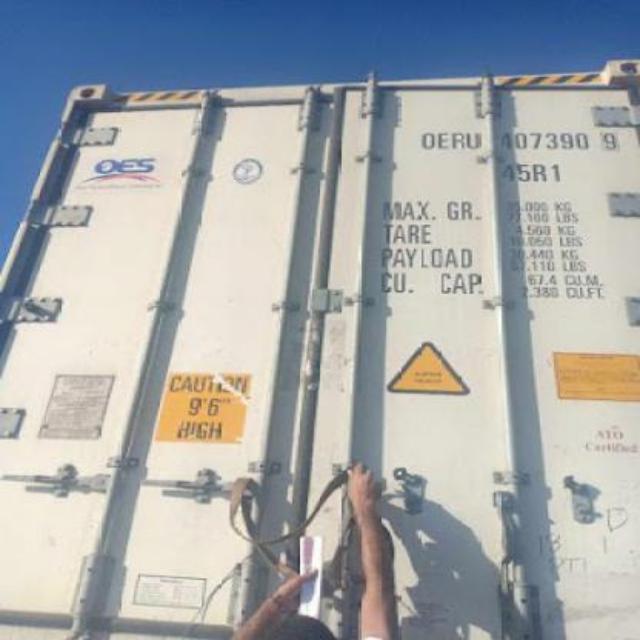0: (574, 132, 592, 152), (514, 132, 528, 152)
3: (542, 130, 560, 150)
4: (498, 132, 514, 148)
7: (528, 132, 544, 152)
9: (598, 132, 620, 152), (558, 130, 574, 152)
E: (436, 130, 449, 152)
O: (420, 132, 436, 150)
R: (450, 130, 466, 152)
U: (464, 132, 482, 152)
